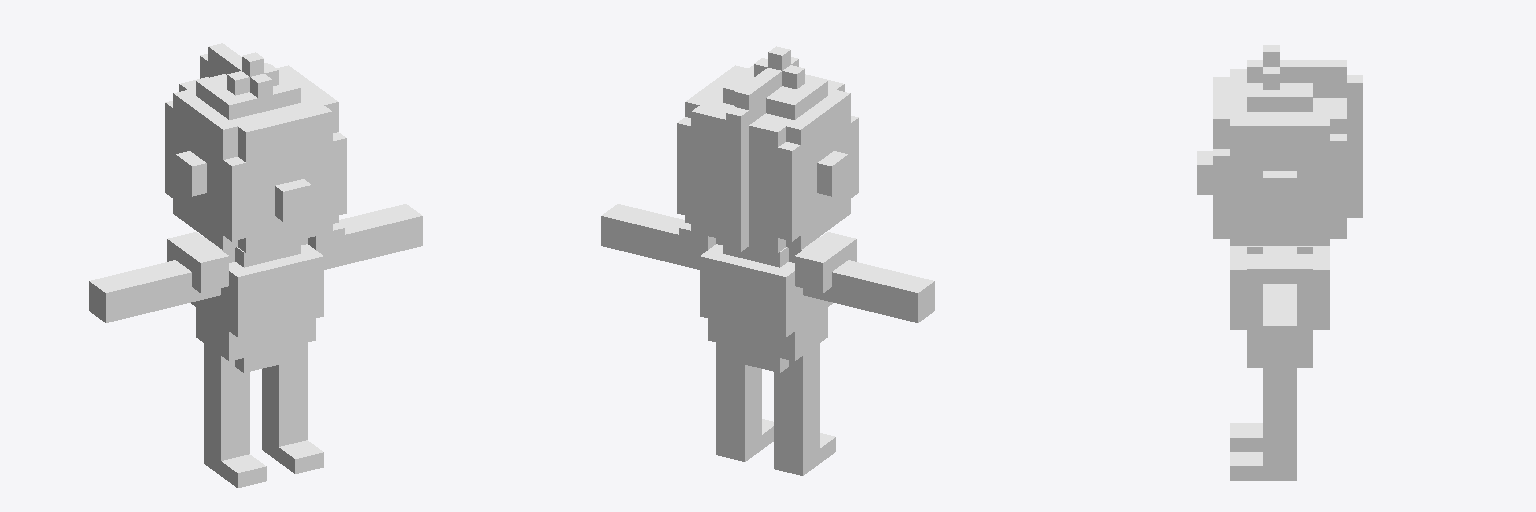
The model's file is Child_Dream.obj.
The picture shows the model from 3 angles: view 1: azimuth 30°, elevation 25°; view 2: azimuth 150°, elevation 25°; view 3: azimuth 270°, elevation 25°; orthographic projection.
Visible parts, largest first — view 1: Child_Dream; view 2: Child_Dream; view 3: Child_Dream.
Boxes of the visible parts, x1=… form: Child_Dream: x1=89, y1=43, x2=422, y2=487; Child_Dream: x1=601, y1=46, x2=934, y2=475; Child_Dream: x1=1197, y1=45, x2=1362, y2=480.
Bounding box in the file's own units: 22 × 27 × 10.